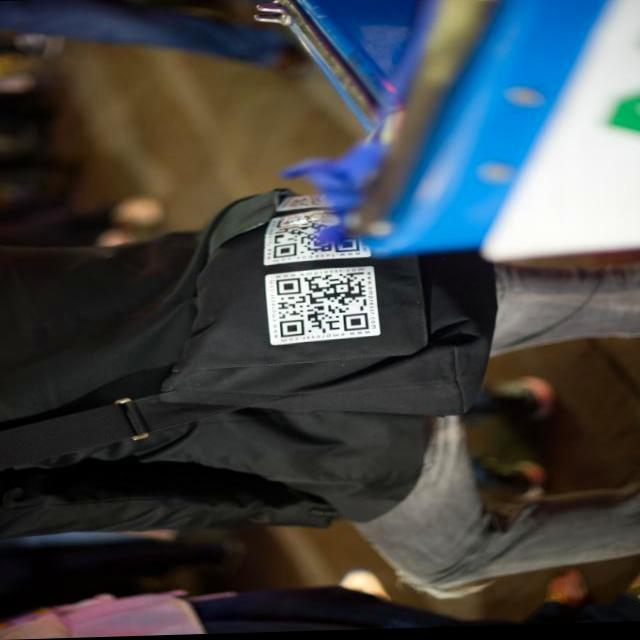qrcode: (277, 275, 370, 340), (274, 214, 360, 261), (289, 196, 326, 208)
